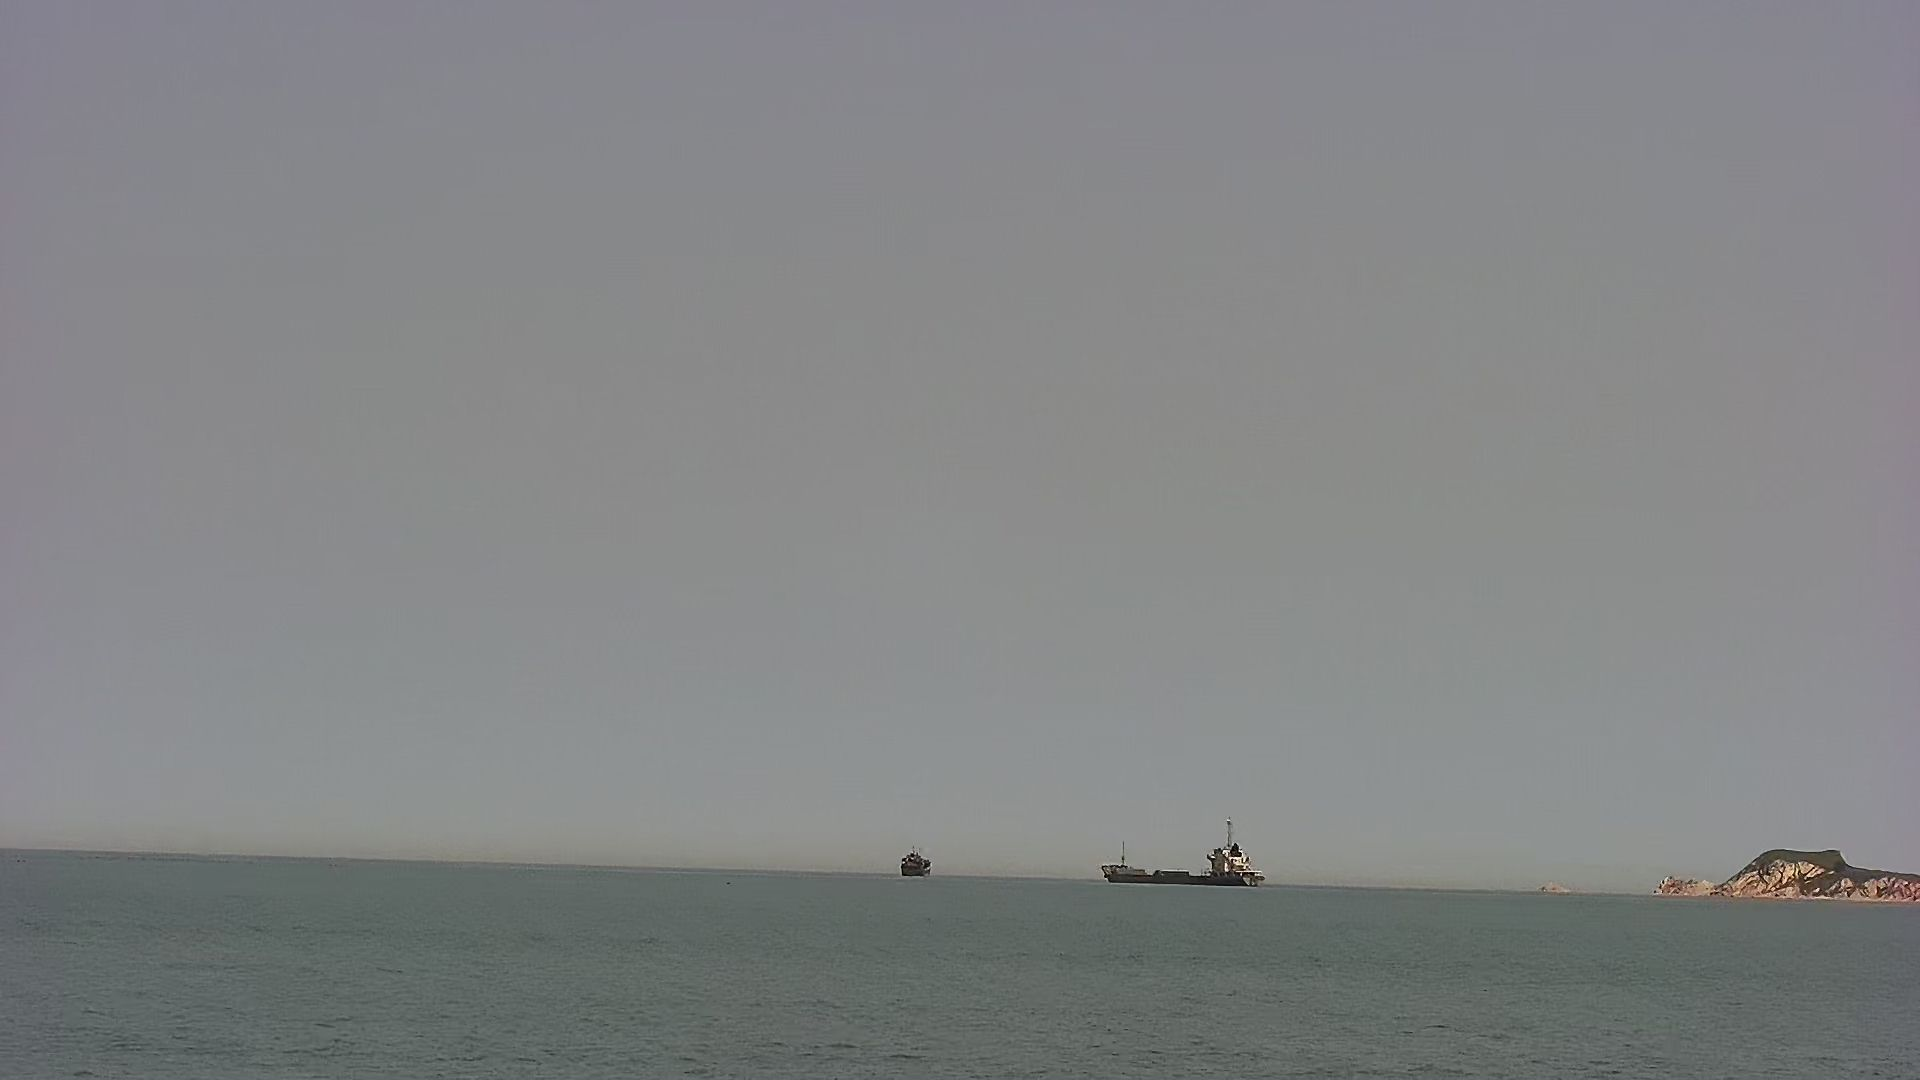rock: (1652, 847, 1920, 905)
ship: (1098, 825, 1267, 889), (897, 847, 934, 880)
